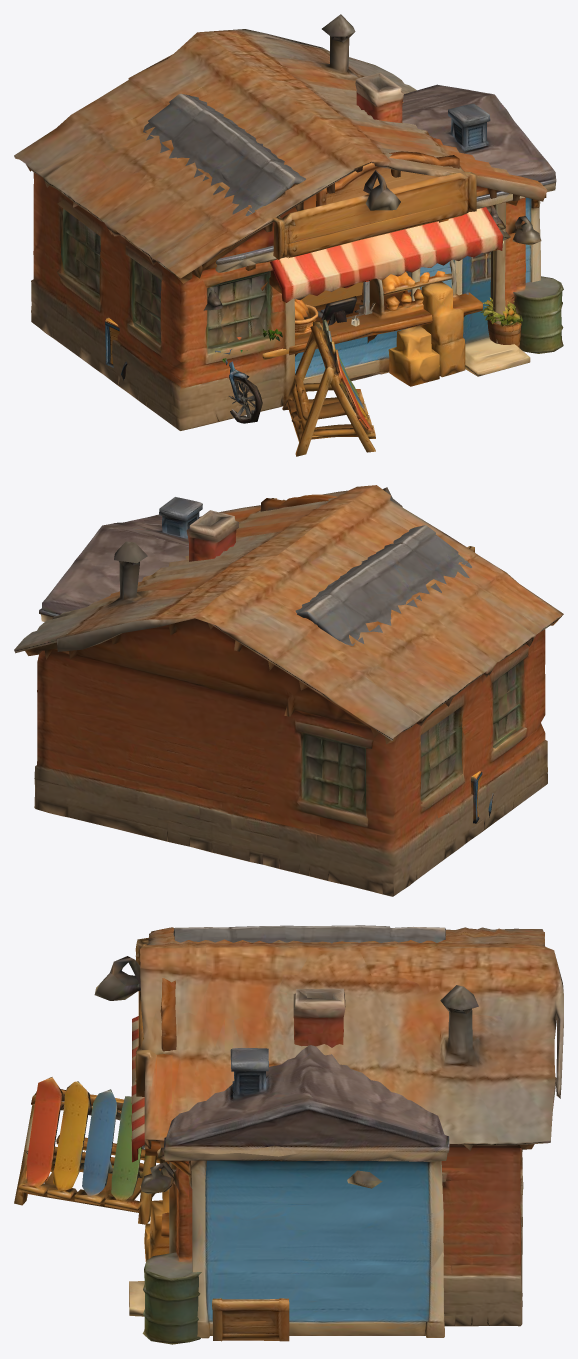
Rendered from pack_heroshops.glb.
The picture shows the model from 3 angles, top to bottom: view 1: azimuth 30°, elevation 25°; view 2: azimuth 150°, elevation 25°; view 3: azimuth 270°, elevation 25°; orthographic projection. The views are drawn at different scales.
Parts seen in each view (by area): view 1: skate_workshop, bakery, delivery_point; view 2: skate_workshop, bakery, delivery_point; view 3: skate_workshop, delivery_point, bakery.
Part boxes in pixels (box(x1,y1,x2,y2)): skate_workshop: box(14, 14, 563, 456); bakery: box(143, 72, 522, 391); delivery_point: box(105, 84, 556, 423); skate_workshop: box(14, 485, 563, 896); bakery: box(186, 494, 471, 645); delivery_point: box(39, 497, 493, 823); skate_workshop: box(14, 927, 563, 1344); delivery_point: box(129, 1045, 449, 1338); bakery: box(131, 925, 445, 1237).
Bounding box in the file's own units: 7.71 × 4.93 × 8.
3 materials, 3 textured.
